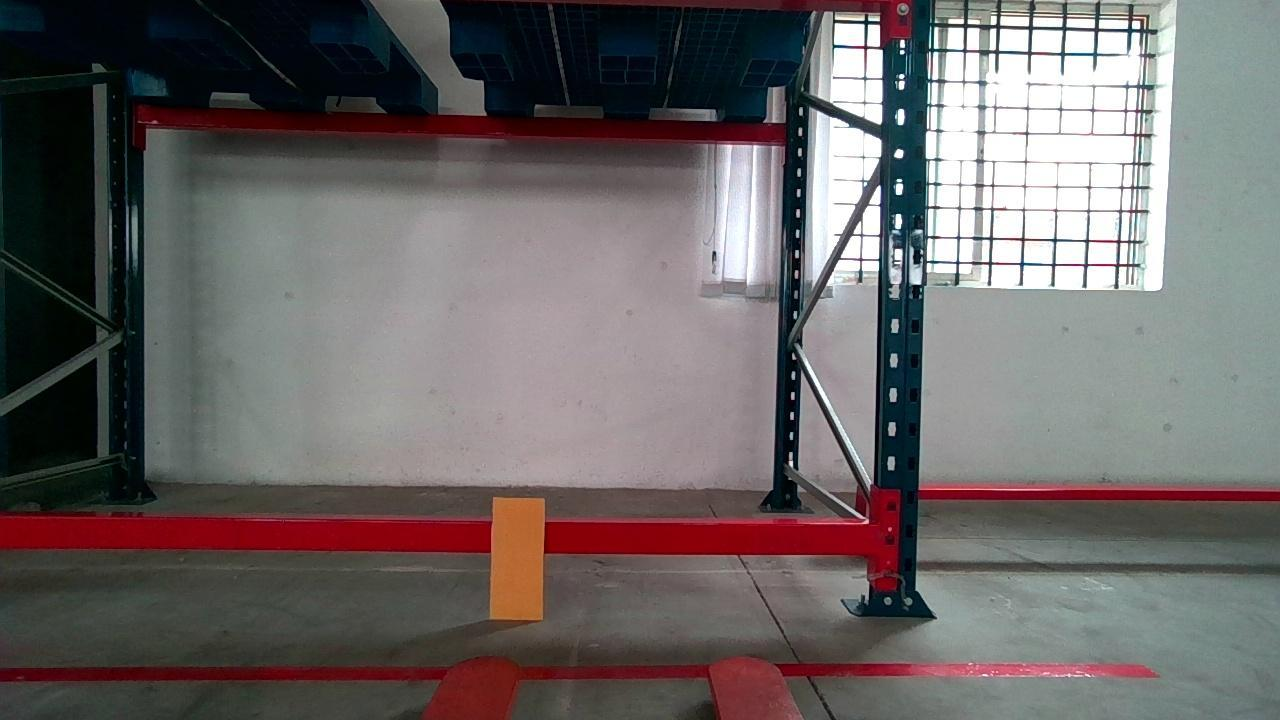h_rack: (0, 516, 876, 557)
orange_strip: (489, 499, 546, 621)
red_line: (2, 661, 1157, 683)
